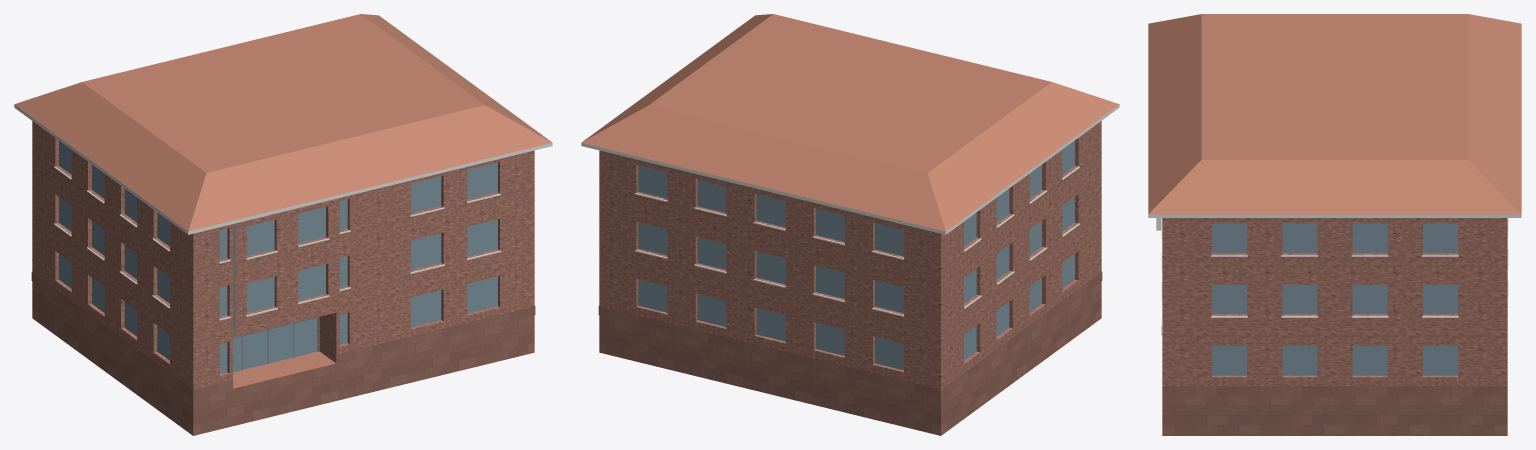
The picture shows the model from 3 angles, left to right: view 1: azimuth 30°, elevation 25°; view 2: azimuth 150°, elevation 25°; view 3: azimuth 270°, elevation 25°; orthographic projection. The views are drawn at different scales.
Visible parts, largest first — view 1: facultyHallN6__roofAccent, facultyHallN6__wall, facultyHallN6__base, facultyHallN6__glass, facultyHallN6__trim, facultyHallN6__roof; view 2: facultyHallN6__roofAccent, facultyHallN6__wall, facultyHallN6__base, facultyHallN6__glass, facultyHallN6__trim; view 3: facultyHallN6__roofAccent, facultyHallN6__wall, facultyHallN6__base, facultyHallN6__glass, facultyHallN6__trim.
Part boxes in pixels (<box>): facultyHallN6__roofAccent: <box>14,14,552,231</box>; facultyHallN6__wall: <box>32,121,534,398</box>; facultyHallN6__base: <box>31,272,535,435</box>; facultyHallN6__glass: <box>59,140,497,373</box>; facultyHallN6__trim: <box>14,104,552,333</box>; facultyHallN6__roof: <box>233,351,335,388</box>; facultyHallN6__roofAccent: <box>581,14,1119,231</box>; facultyHallN6__wall: <box>599,121,1101,397</box>; facultyHallN6__base: <box>598,271,1102,435</box>; facultyHallN6__glass: <box>638,140,1074,370</box>; facultyHallN6__trim: <box>581,104,1119,316</box>; facultyHallN6__roofAccent: <box>1148,14,1521,214</box>; facultyHallN6__wall: <box>1162,218,1507,386</box>; facultyHallN6__base: <box>1161,326,1507,435</box>; facultyHallN6__glass: <box>1212,223,1457,375</box>; facultyHallN6__trim: <box>1148,214,1521,317</box>.
Bounding box in the file's own units: 25.45 × 16.14 × 21.05.
Materials: 8 (2 with a texture image).
